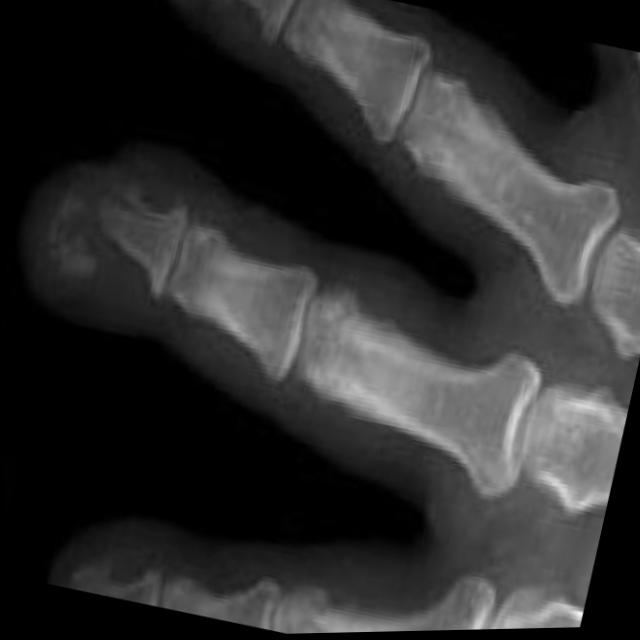fracture: (21, 115, 159, 310)
